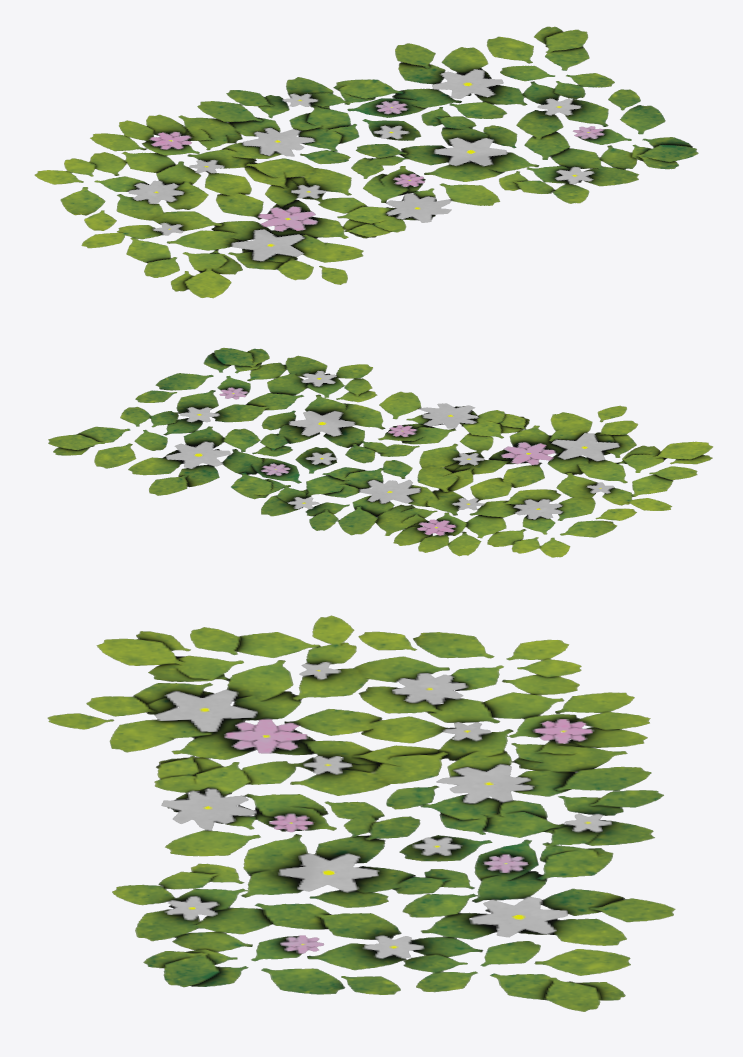
File: Flowers_Bush_04.fbx
The picture shows the model from 3 angles, top to bottom: view 1: azimuth 30°, elevation 25°; view 2: azimuth 150°, elevation 25°; view 3: azimuth 270°, elevation 25°; orthographic projection. The views are drawn at different scales.
Visible parts, largest first — view 1: Flowers_Bush_04; view 2: Flowers_Bush_04; view 3: Flowers_Bush_04.
Part boxes in pixels (x1=…): Flowers_Bush_04: x1=34, y1=26, x2=698, y2=298; Flowers_Bush_04: x1=48, y1=347, x2=713, y2=557; Flowers_Bush_04: x1=47, y1=615, x2=675, y2=1011.
Bounding box in the file's own units: 3.47 × 0 × 2.37.
